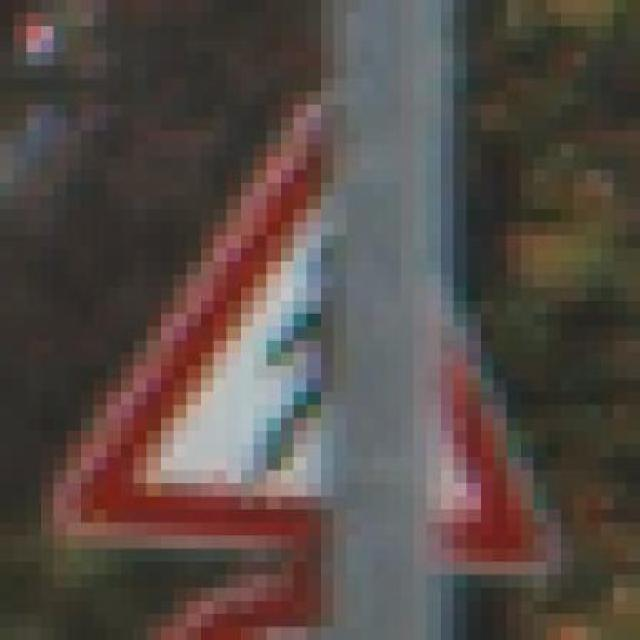Pedestrian Crossing: (39, 52, 587, 588)
